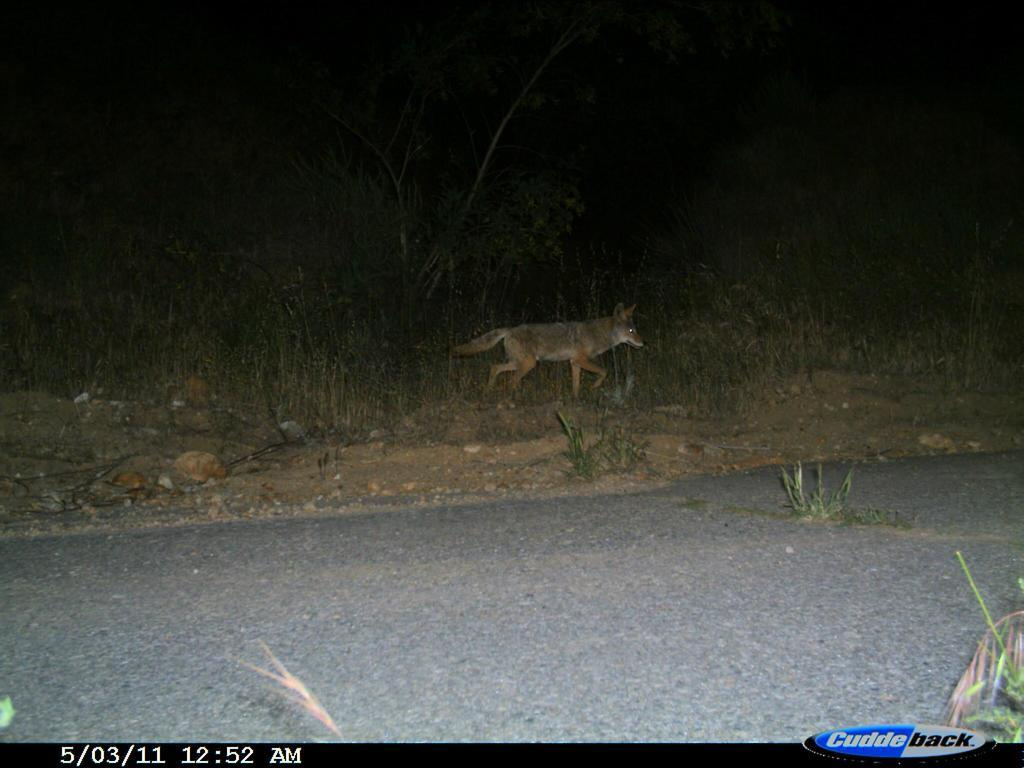coyote: (443, 294, 653, 410)
